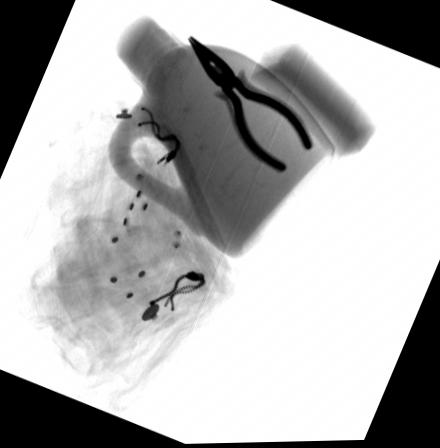Pliers: (185, 35, 314, 176)
